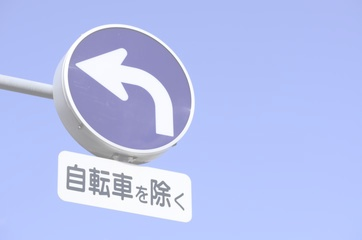Direction_sign: (56, 17, 201, 166)
